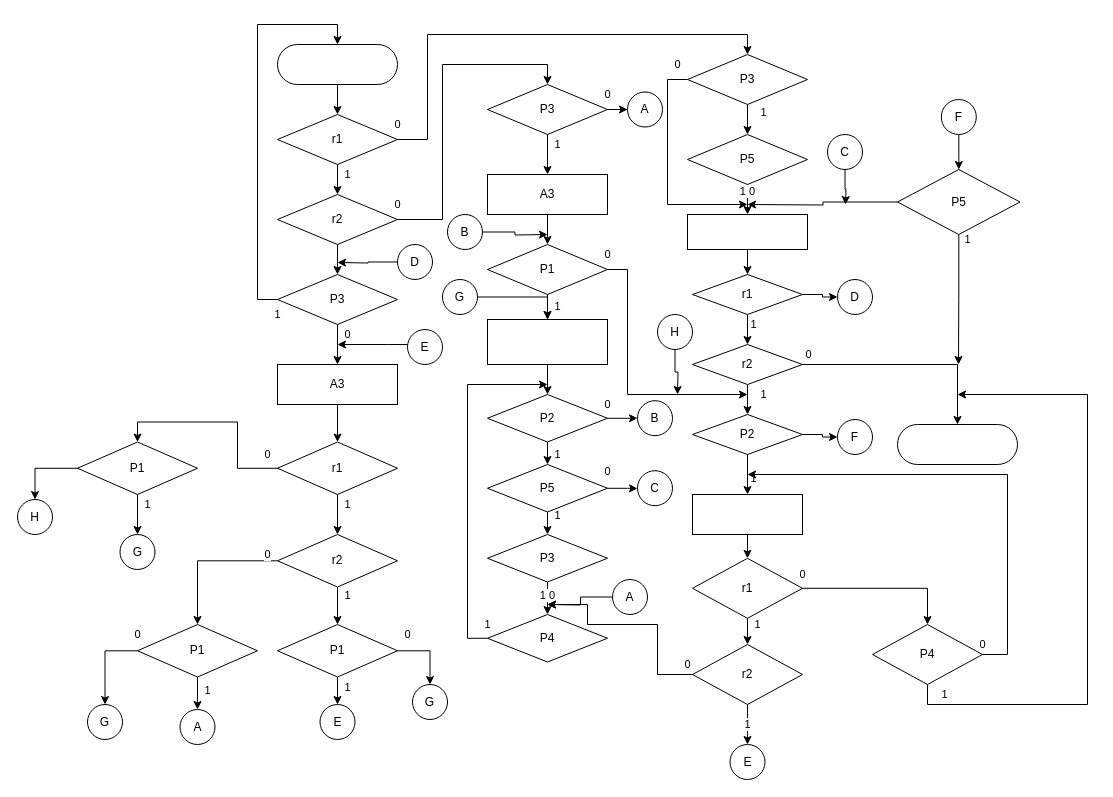
This 1113x797 diagram has some shape labels left out. Here are the shapes that lost their labels. From the top down, the box of each, then its label:
(276, 44, 398, 84): A0
(686, 214, 808, 250): A1
(486, 318, 608, 364): A4
(896, 424, 1018, 464): Ak
(692, 494, 802, 534): A2
